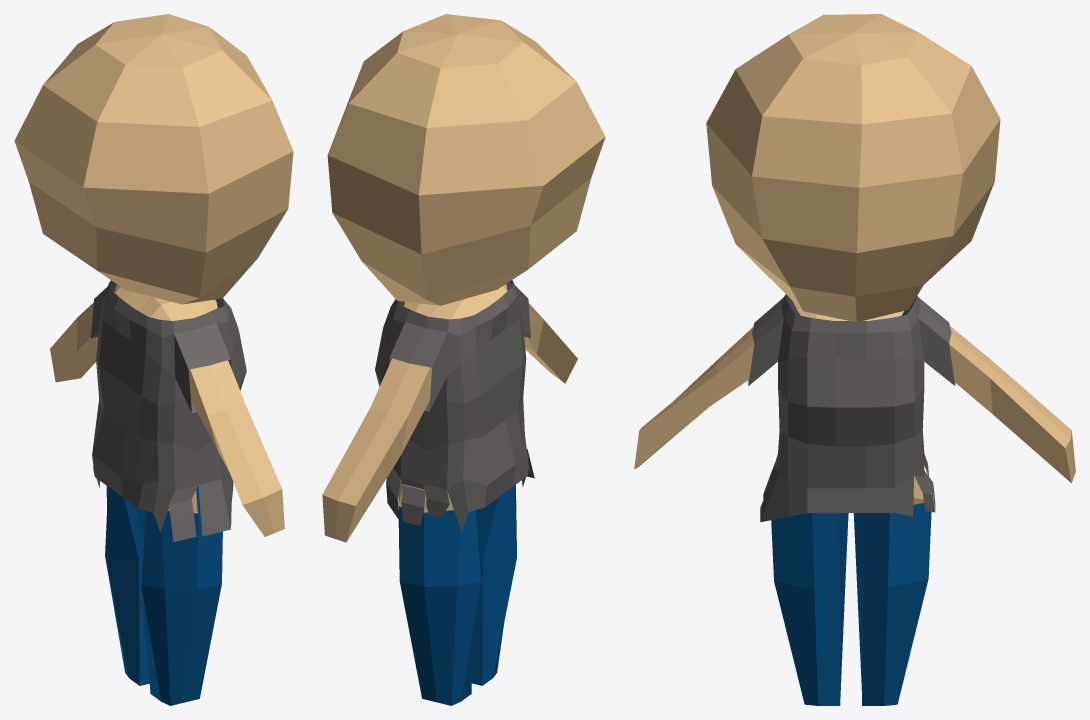
File: Human_2 (1).fbx
3 views of the same model, side by side, from view 1: azimuth 30°, elevation 25°; view 2: azimuth 150°, elevation 25°; view 3: azimuth 270°, elevation 25° (orthographic). The views are drawn at different scales.
Visible parts, largest first — view 1: 球體; view 2: 球體; view 3: 球體.
Part boxes in pixels (x1,y1,x2,y2): 球體: (14,14,293,705); 球體: (322,14,605,705); 球體: (634,14,1075,705).
Size of the model in its own units: 126 by 337 by 203.
